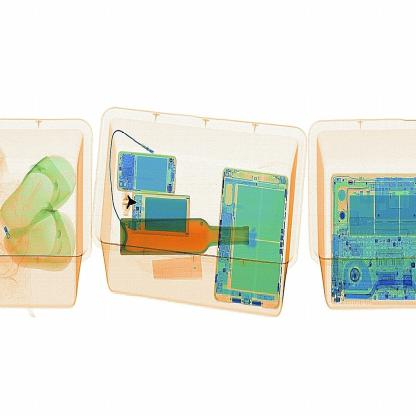gun: (116, 188, 139, 218)
